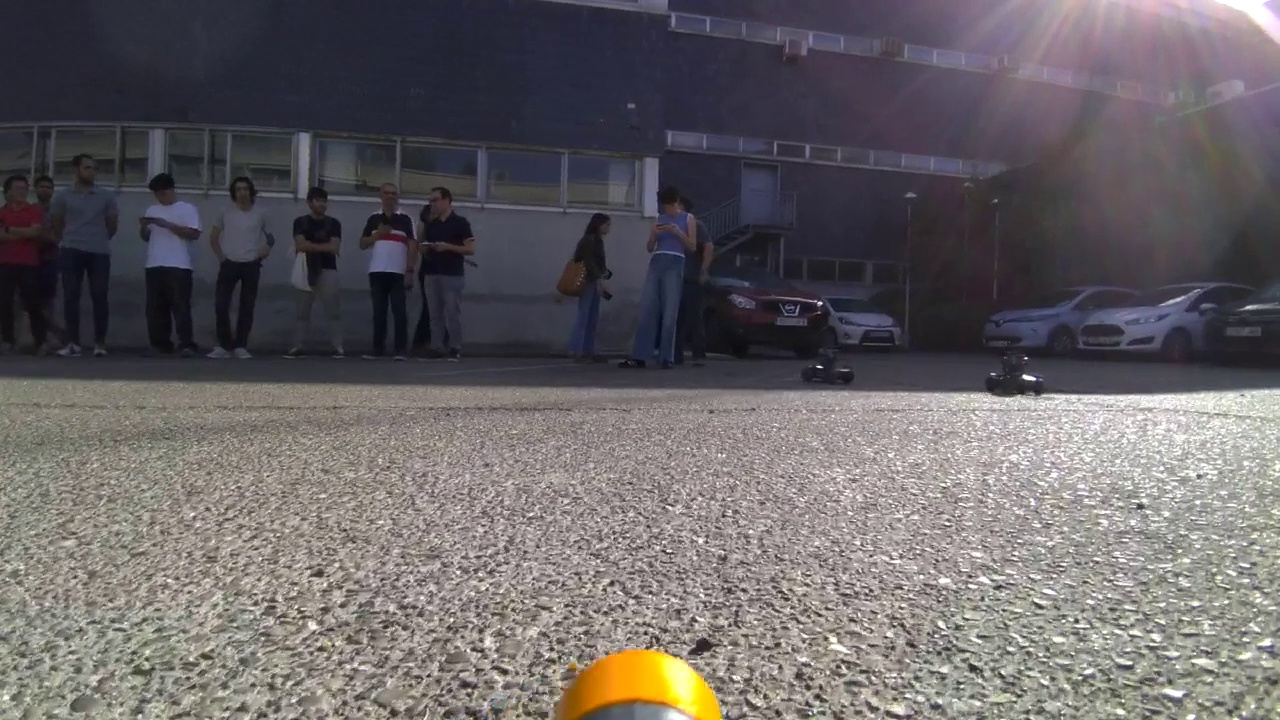robot: (982, 347, 1054, 399), (793, 340, 866, 390)
